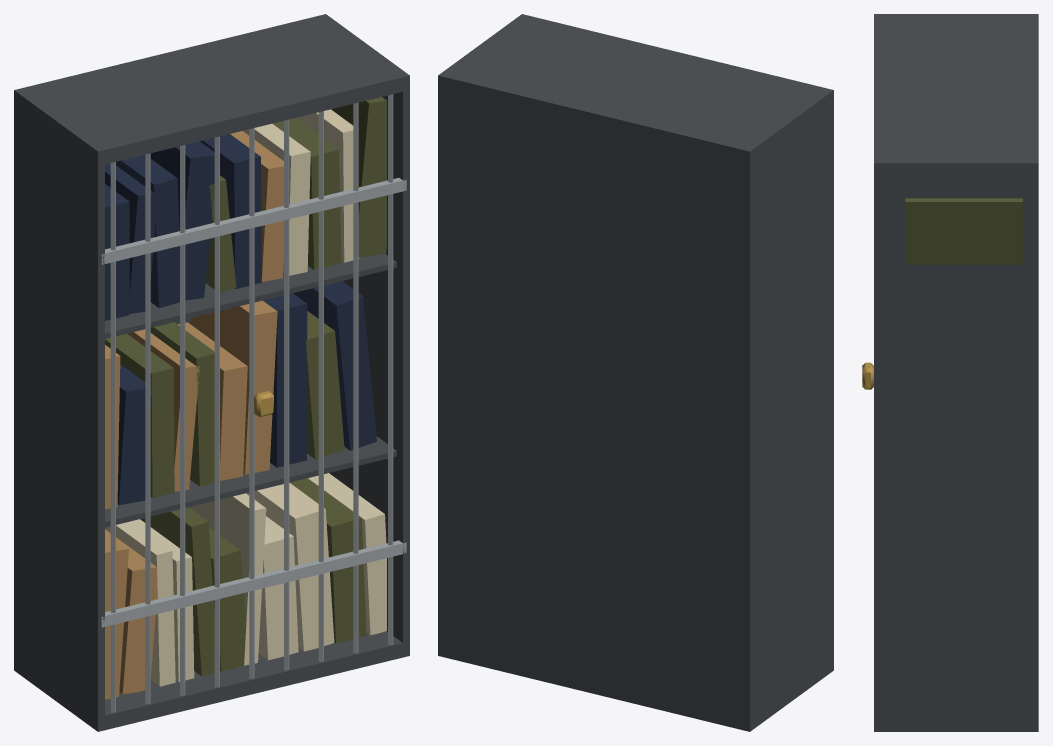
Rendered from barred_cabinet.glb.
The picture shows the model from 3 angles, left to right: view 1: azimuth 30°, elevation 25°; view 2: azimuth 150°, elevation 25°; view 3: azimuth 270°, elevation 25°; orthographic projection. The views are drawn at different scales.
Parts seen in each view (by area): view 1: BarCabinet; view 2: BarCabinet; view 3: BarCabinet.
Boxes of the visible parts, x1,y1,x2,y2 form: BarCabinet: (14,14,409,731); BarCabinet: (438,14,833,731); BarCabinet: (862,14,1038,731).
Bounding box in the file's own units: 0.9178 × 1.6 × 0.45.
